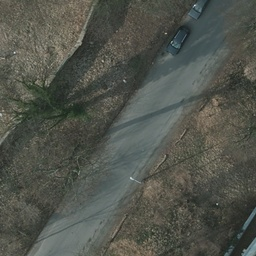car: (167, 24, 190, 53), (187, 1, 207, 18)
